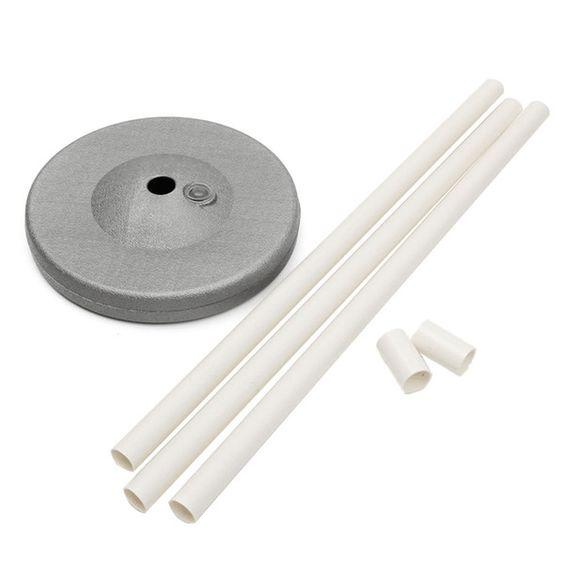PVC: (361, 82, 550, 266), (107, 342, 300, 512), (379, 316, 478, 400)
